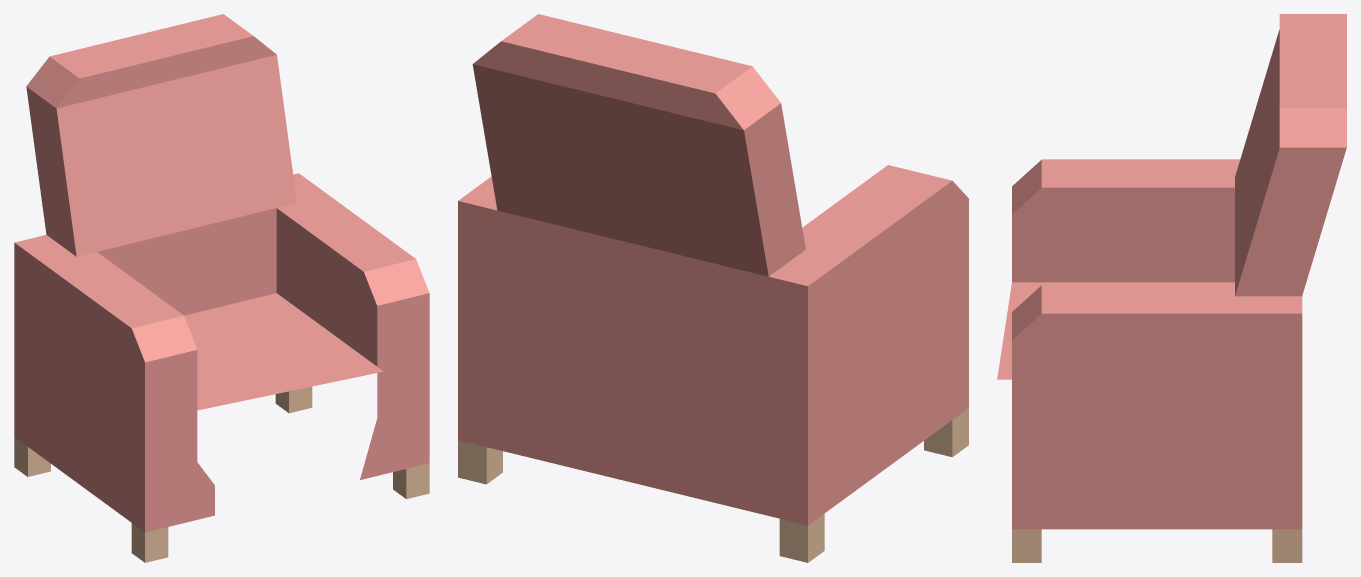
Rendered from loungeChairUpright.glb.
3 renders of one model, left to right at view 1: azimuth 30°, elevation 25°; view 2: azimuth 150°, elevation 25°; view 3: azimuth 270°, elevation 25°, orthographic. The views are drawn at different scales.
Visible parts, largest first — view 1: loungeChairRelax(Clone); view 2: loungeChairRelax(Clone); view 3: loungeChairRelax(Clone).
Part boxes in pixels (x1,y1,x2,y2): loungeChairRelax(Clone): [14, 14, 429, 562]; loungeChairRelax(Clone): [458, 14, 968, 562]; loungeChairRelax(Clone): [997, 14, 1346, 562].
Bounding box in the file's own units: 0.49 × 0.63 × 0.47.
